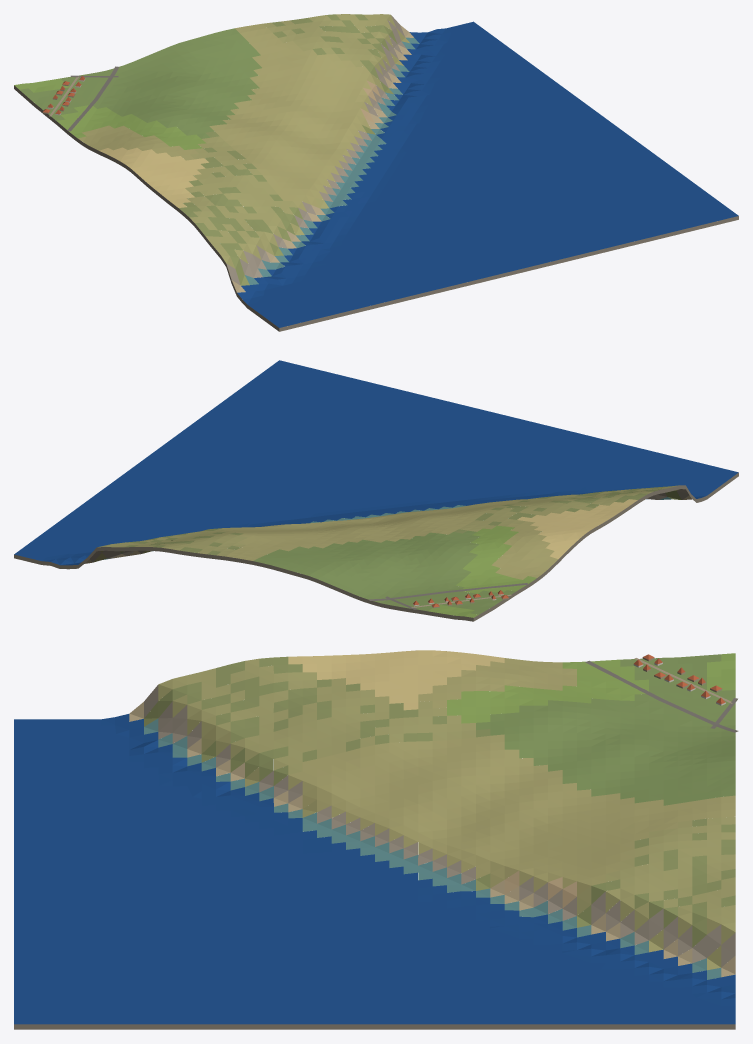
Rendered from parca_+12_-7-uzak.glb.
3 views of the same model, one above another, from view 1: azimuth 30°, elevation 25°; view 2: azimuth 150°, elevation 25°; view 3: azimuth 270°, elevation 25° (orthographic). The views are drawn at different scales.
Visible parts, largest first — view 1: parca_+12_-7_arazi_uzak, parca_+12_-7_yollar_uzak; view 2: parca_+12_-7_arazi_uzak, parca_+12_-7_yollar_uzak; view 3: parca_+12_-7_arazi_uzak, parca_+12_-7_yollar_uzak, parca_+12_-7_yapilar_uzak.
Boxes of the visible parts, x1,y1,x2,y2 form: parca_+12_-7_arazi_uzak: [14, 14, 738, 331]; parca_+12_-7_yollar_uzak: [49, 66, 118, 131]; parca_+12_-7_arazi_uzak: [14, 360, 738, 621]; parca_+12_-7_yollar_uzak: [369, 583, 527, 609]; parca_+12_-7_arazi_uzak: [14, 650, 735, 1029]; parca_+12_-7_yollar_uzak: [585, 658, 738, 732]; parca_+12_-7_yapilar_uzak: [633, 654, 725, 705].
Size of the model in its own units: 1007 by 116 by 1004.
